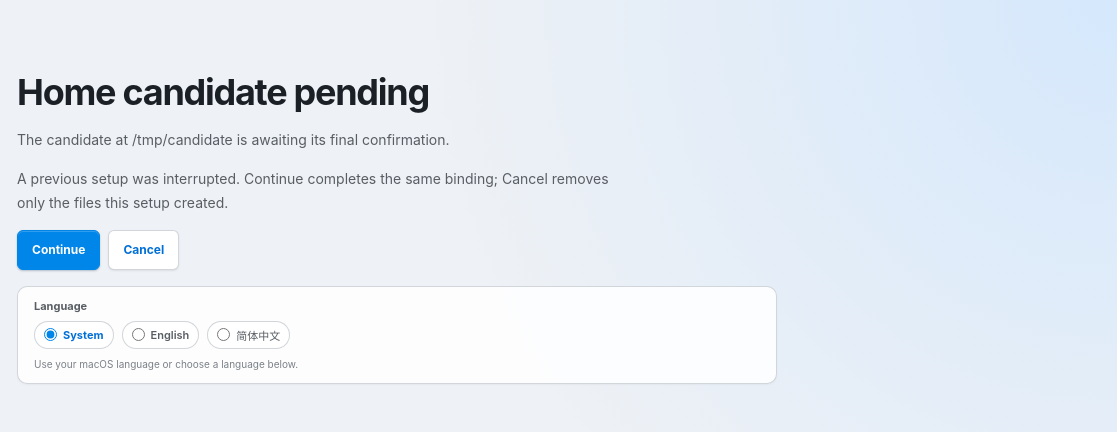
Test: non-cancellable error is shown and back returns to the route
Click the button "Cancel" at (144, 250), box [108, 230, 179, 270]
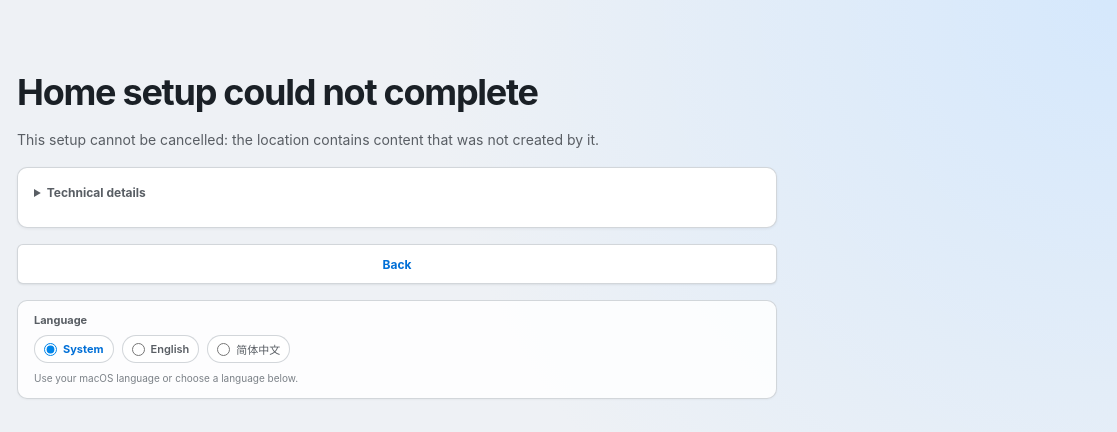
Expected: the text "This setup cannot be cancelled: the location contains content that was not created by it." is shown, [17, 131, 599, 148]
Click the button "Back" at (397, 264), box [17, 244, 777, 284]
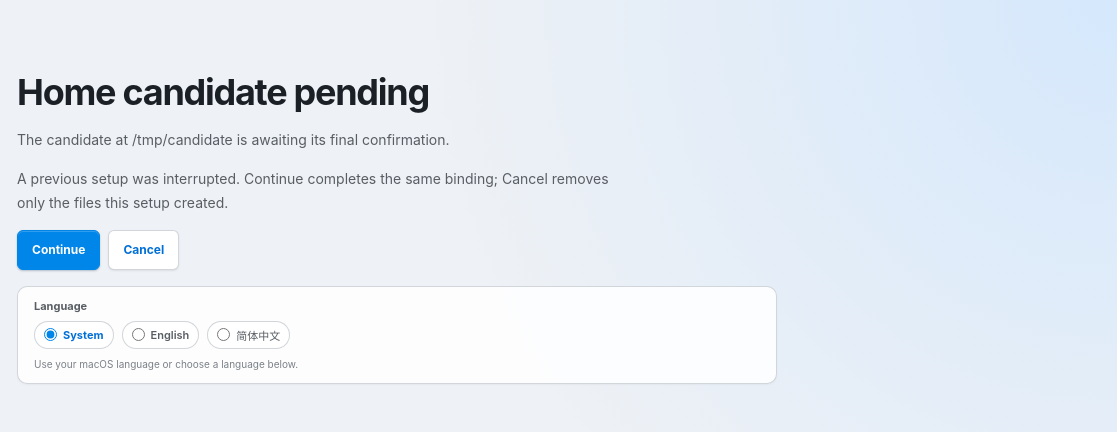
Expected: the button "Continue" is shown, [17, 230, 100, 270]
